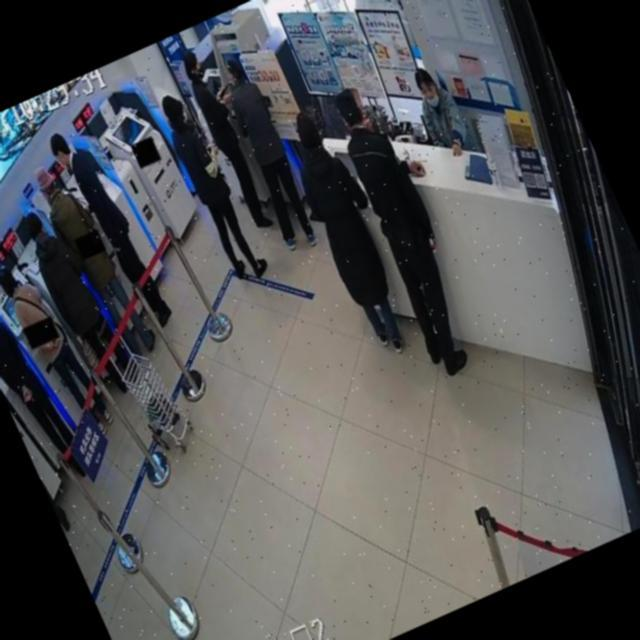person: (317, 72, 506, 380), (272, 100, 432, 365), (46, 118, 180, 342), (27, 150, 162, 370), (16, 198, 145, 406), (207, 51, 330, 260), (154, 86, 273, 289), (0, 250, 118, 445), (176, 44, 288, 236), (0, 277, 94, 495), (0, 326, 75, 537), (0, 336, 71, 533), (400, 56, 478, 164)
